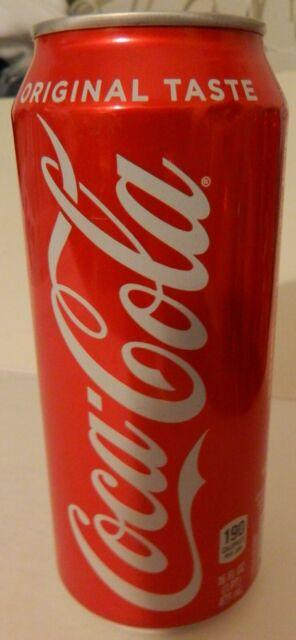metal: (11, 12, 288, 628)
